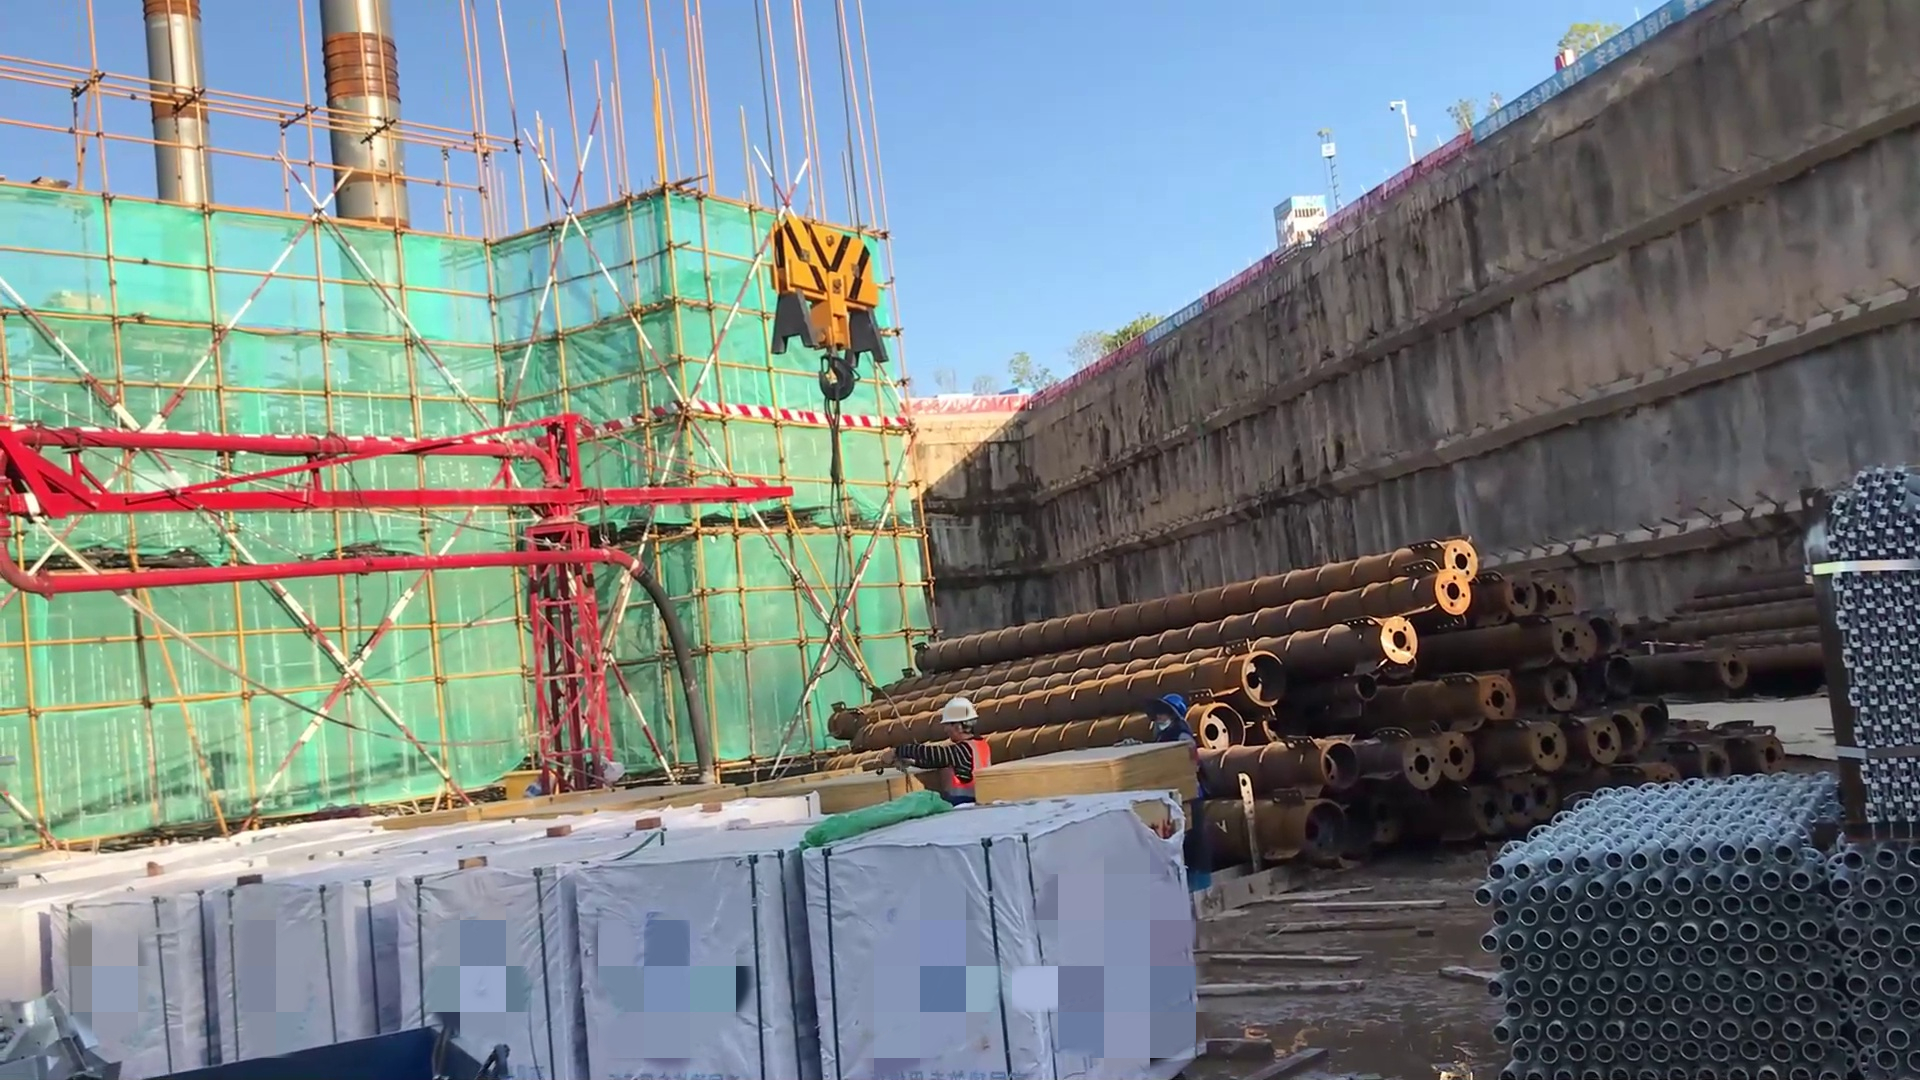board: (969, 736, 1197, 826)
ebox: (490, 751, 569, 826)
helmet: (1152, 691, 1193, 738), (933, 699, 975, 733)
hook: (759, 213, 913, 466)
person: (1137, 690, 1212, 917), (875, 697, 999, 826)
scaffold: (1455, 751, 1920, 1080), (1802, 452, 1920, 843)
slogan: (1472, 1, 1697, 134), (1143, 288, 1212, 356)
vest: (934, 733, 998, 806)
